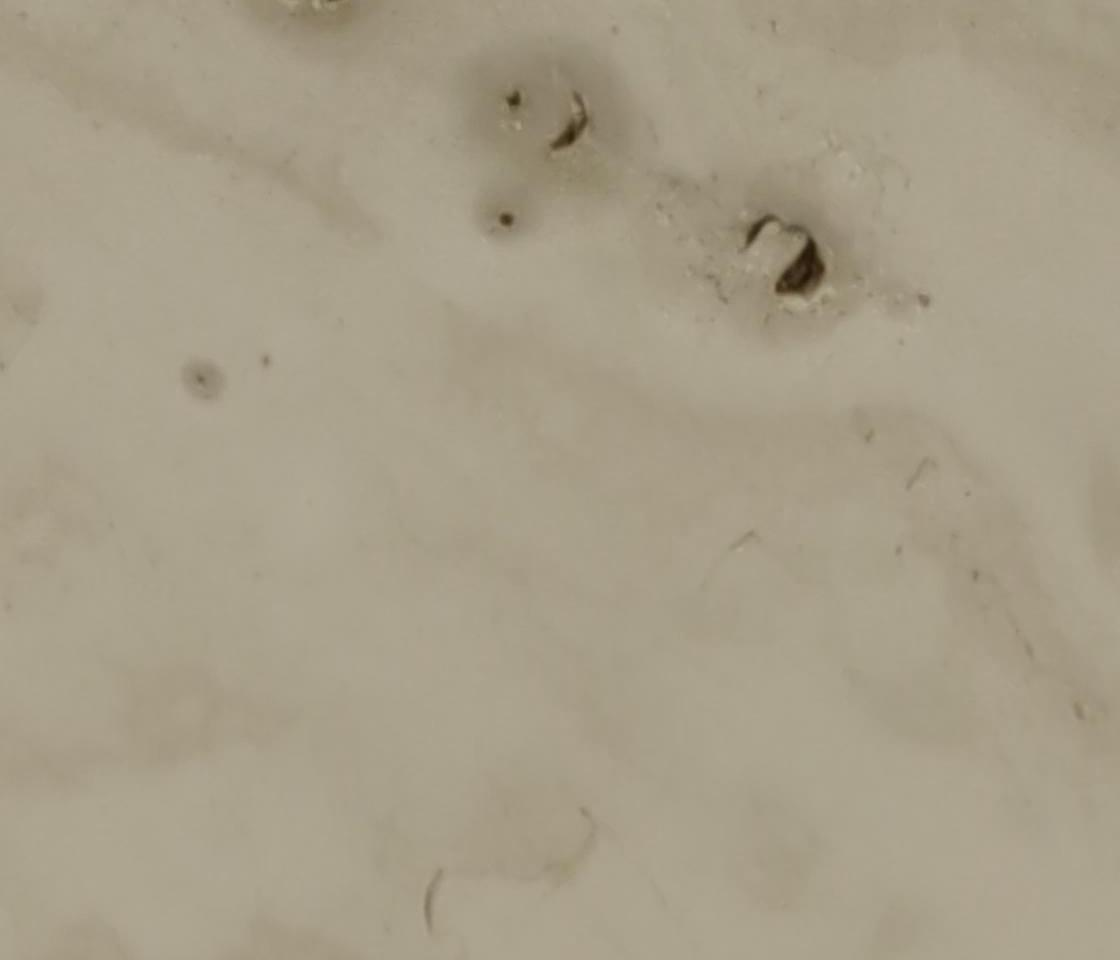rust: (781, 238, 829, 303)
